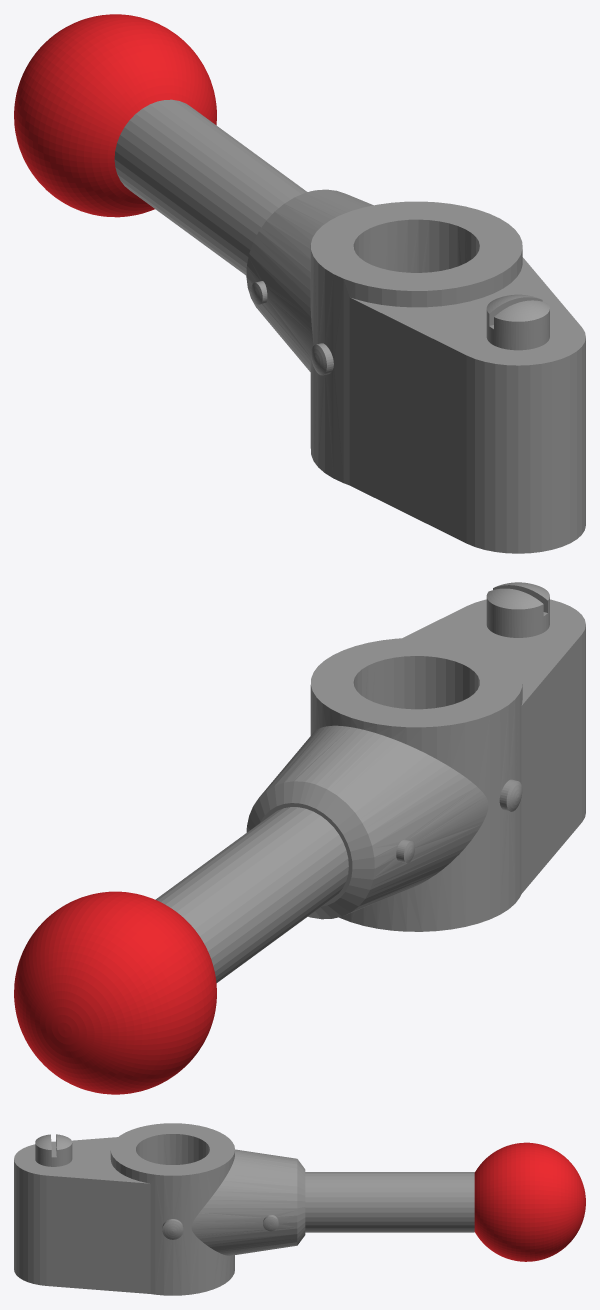
File: lever.fbx
3 renders of one model, top to bottom at view 1: azimuth 30°, elevation 25°; view 2: azimuth 150°, elevation 25°; view 3: azimuth 270°, elevation 25°, orthographic. The views are drawn at different scales.
Parts seen in each view (by area): view 1: Lever; view 2: Lever; view 3: Lever.
Boxes of the visible parts, <box> form: Lever: <box>14,14,585,553</box>; Lever: <box>14,582,585,1094</box>; Lever: <box>14,1123,585,1295</box>.
Size of the model in its own units: 5200 by 5857 by 21600.
